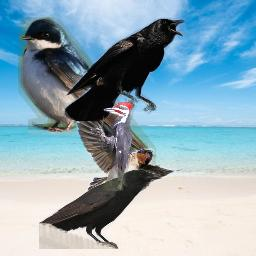Crow: (65, 17, 186, 121), (39, 168, 162, 249)
Swallow: (18, 17, 156, 172), (75, 101, 184, 212)
Woodpecker: (89, 102, 135, 191)
